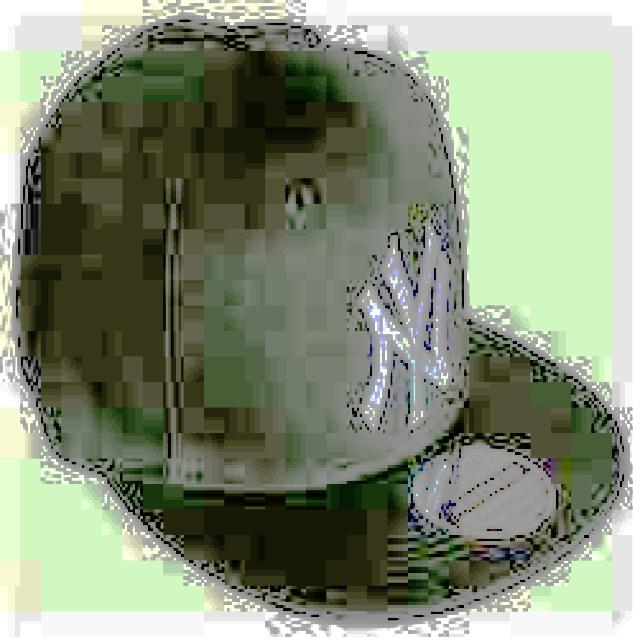TOPI: (10, 6, 627, 621)
